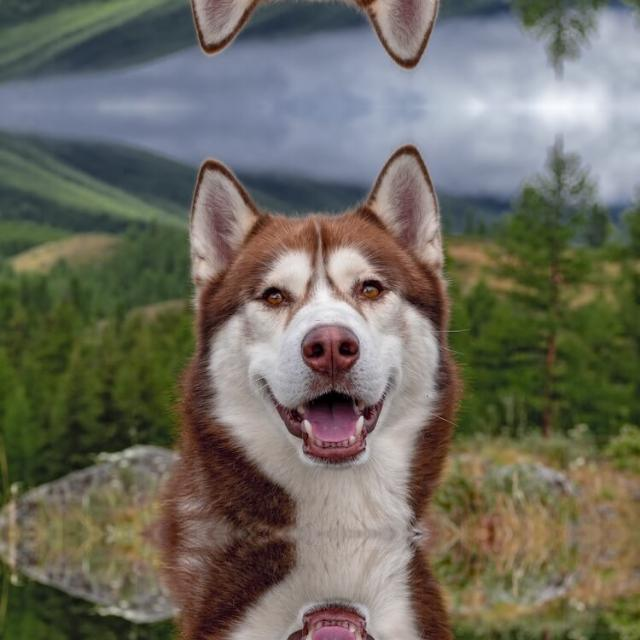dog: (164, 152, 512, 534), (164, 533, 512, 640), (164, 0, 512, 59)
